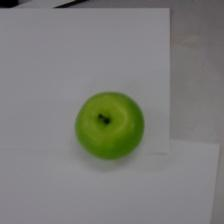green: (74, 90, 145, 161)
